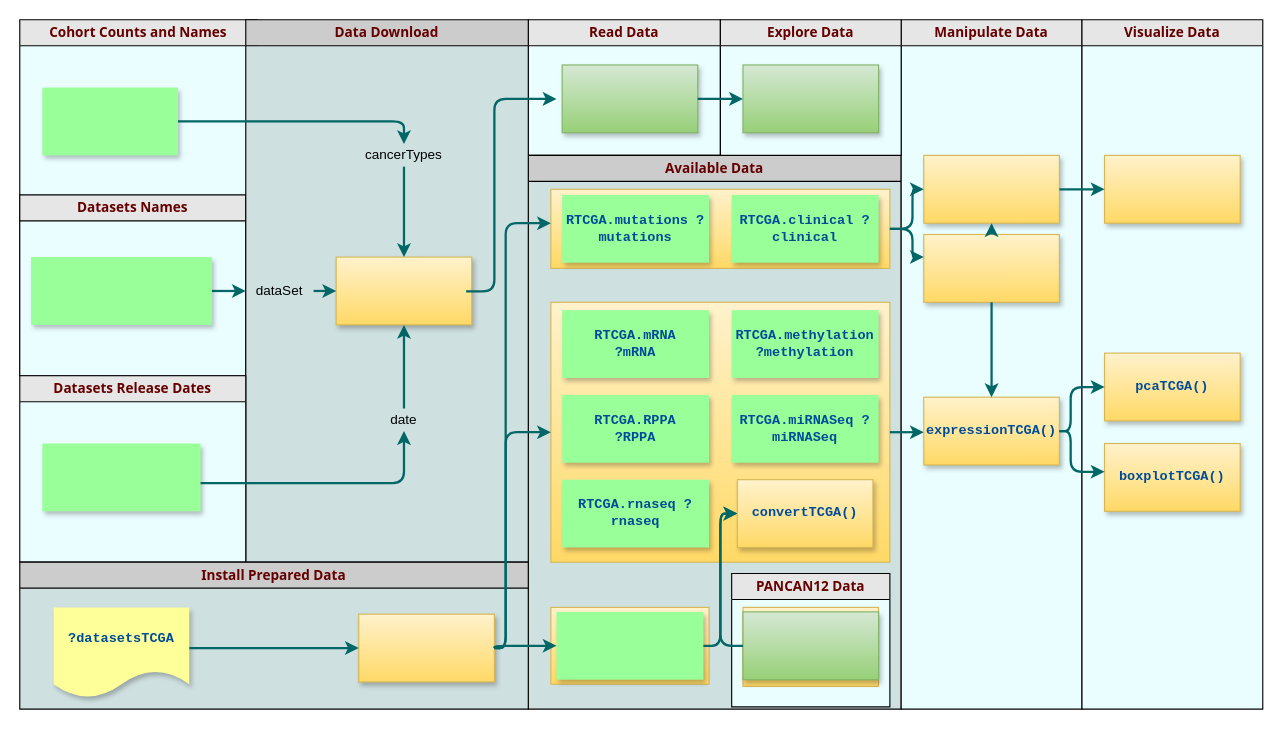
The diagram is 1283 pixels wide and 729 high, and some of its shapes have lost their labels. The shapes that lost their labels are listed below. From the top down, each one's centre as x and y in pixels, then its label:
pixel 631 100: readTCGA()
pixel 811 100: user functions
pixel 110 122: infoTCGA()
pixel 992 190: survivalTCGA()
pixel 1173 190: kmTCGA()
pixel 992 269: mutationTCGA()
pixel 122 292: checkTCGA('DatSets')
pixel 405 292: downloadTCGA()
pixel 122 478: checkTCGA('Dates')
pixel 427 649: installTCGA()
pixel 630 647: RTCGA.CNV ?CNV
pixel 811 647: RTCGA.PANCAN12 ?pancan12
